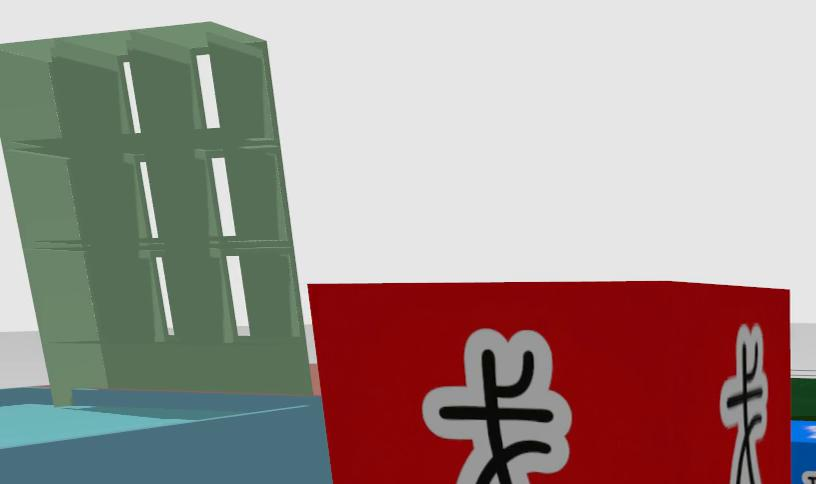KFS_FAKE: (310, 282, 789, 484), (422, 330, 571, 484), (721, 324, 767, 484)
KFS_REAL: (790, 422, 816, 484)
